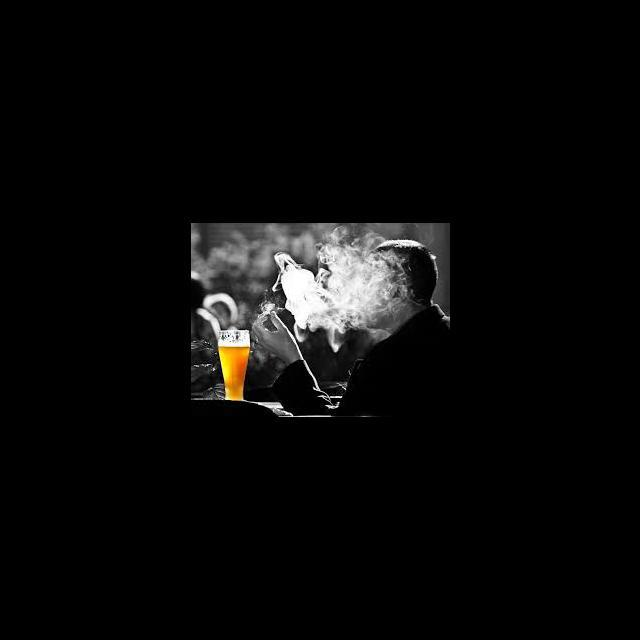Smoke: (275, 233, 395, 349), (257, 294, 274, 316)
